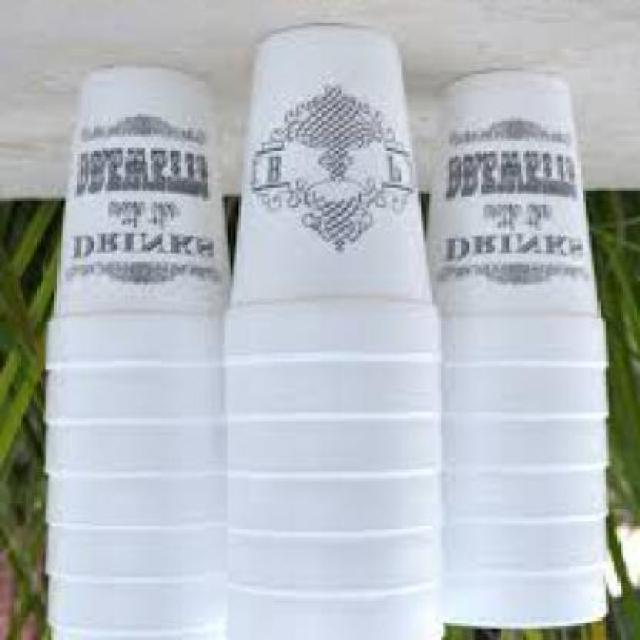PAPER: (222, 24, 443, 638), (37, 71, 231, 638), (427, 74, 605, 632), (225, 22, 441, 367), (43, 68, 219, 375), (427, 74, 605, 369)
